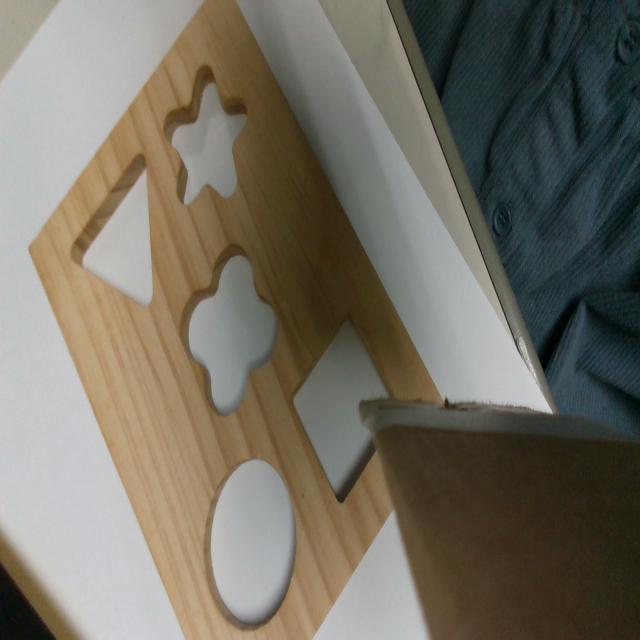circle: (205, 456, 294, 633)
flower: (180, 243, 278, 413)
square: (290, 316, 397, 508)
star: (163, 62, 247, 203)
triangle: (70, 151, 155, 308)
